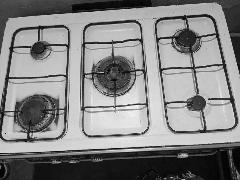electronic: (0, 2, 240, 164)
